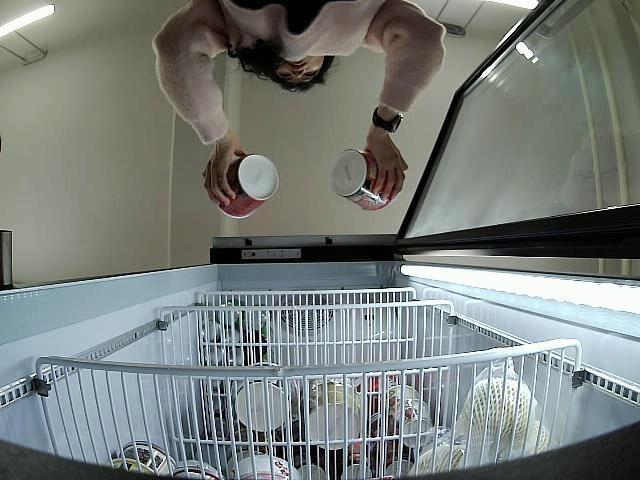01_ShinRamen_L: (329, 148, 396, 211), (218, 154, 278, 220)
